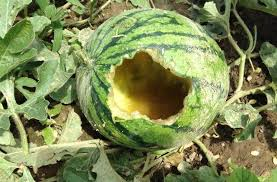damaged_watermelon: (75, 13, 219, 150)
